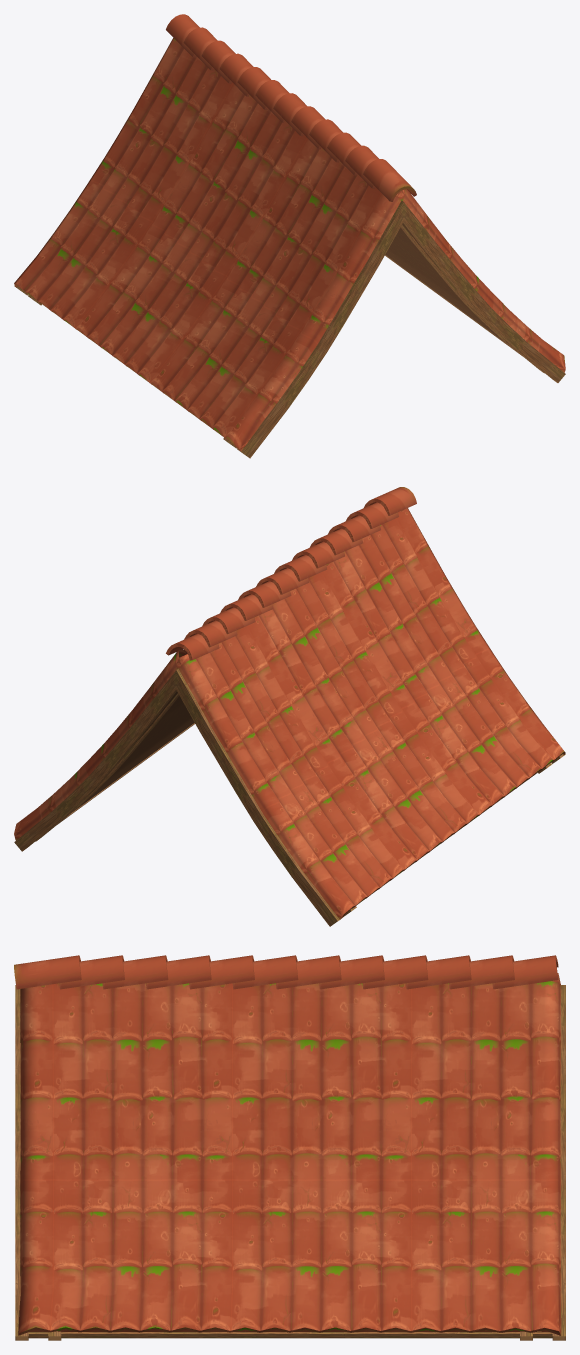
File: Roof_RoundTiles_6x8.gltf
3 renders of one model, top to bottom at view 1: azimuth 30°, elevation 25°; view 2: azimuth 150°, elevation 25°; view 3: azimuth 270°, elevation 25°, orthographic. The views are drawn at different scales.
Parts seen in each view (by area): view 1: Roof_RoundTiles_6x8; view 2: Roof_RoundTiles_6x8; view 3: Roof_RoundTiles_6x8.
Part boxes in pixels (x1,y1,x2,y2): Roof_RoundTiles_6x8: [14, 14, 565, 458]; Roof_RoundTiles_6x8: [14, 487, 565, 926]; Roof_RoundTiles_6x8: [14, 955, 565, 1340].
Size of the model in its own units: 8.25 by 5.67 by 9.68.
2 materials, 2 textured.
